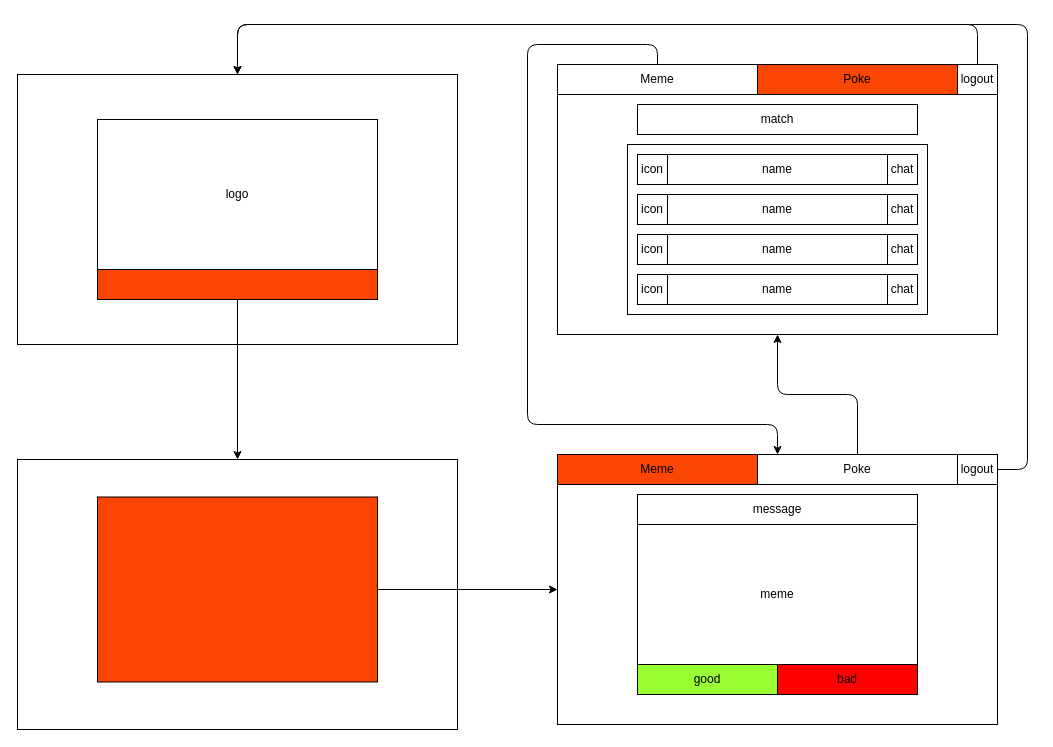
Image size: 1053x747. Some labels were removed from this diagram. Here are the shapes that lost their labels. From the top down, the box of each, then its label:
(96, 268, 378, 300): login with reddit
(96, 496, 378, 682): reddit login page
